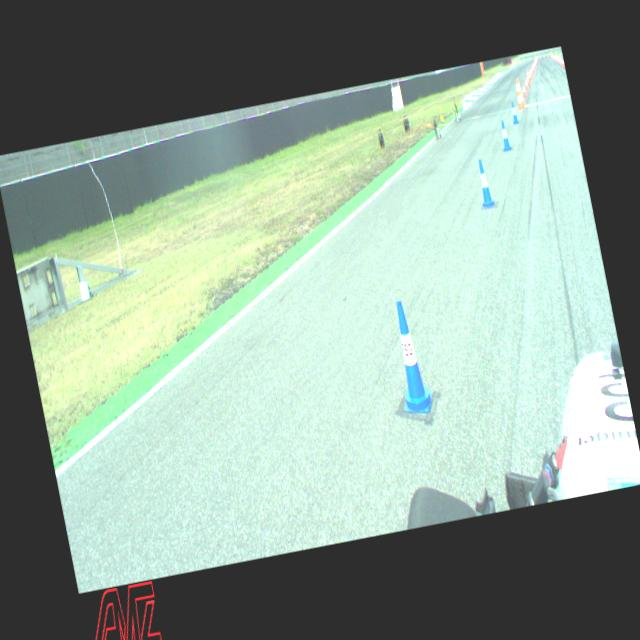blue_cone: (384, 298, 436, 418), (474, 158, 496, 208), (498, 120, 512, 152), (510, 101, 520, 124)
large_orange_cone: (514, 80, 524, 110), (516, 77, 526, 106)
orange_cone: (522, 84, 528, 98), (524, 77, 529, 90)
yellow_cone: (438, 106, 444, 120)
